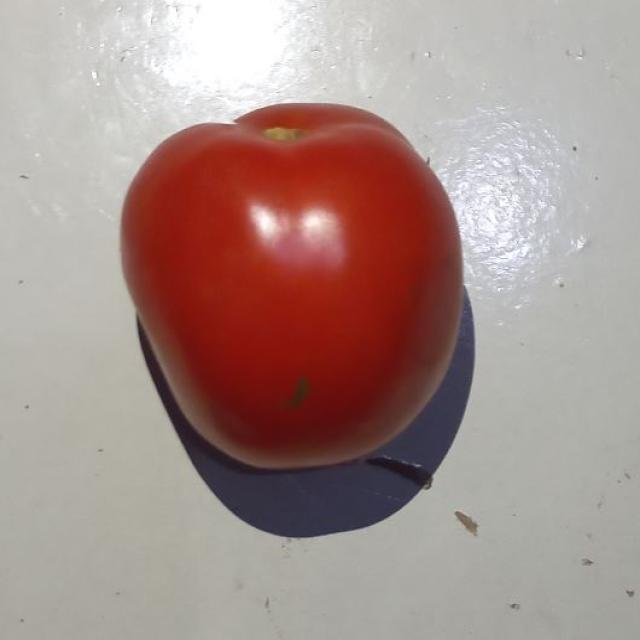ripe tomato: (99, 98, 471, 494)
